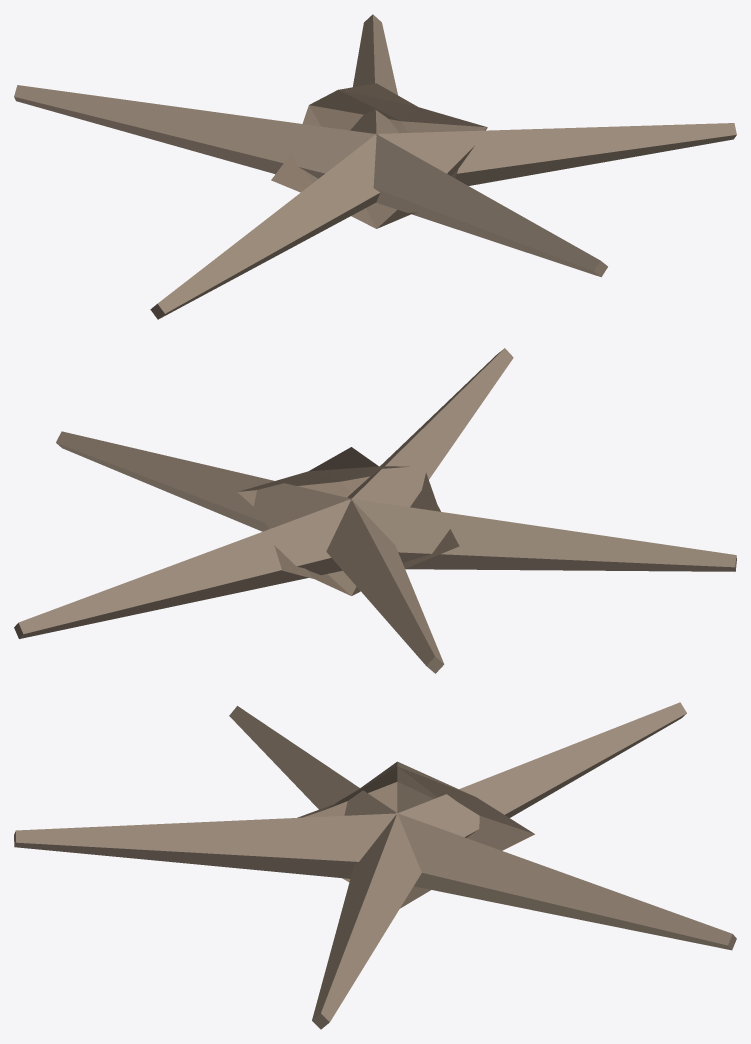
3 views of the same model, one above another, from view 1: azimuth 30°, elevation 25°; view 2: azimuth 150°, elevation 25°; view 3: azimuth 270°, elevation 25° (orthographic). The views are drawn at different scales.
Visible parts, largest first — view 1: lod0; view 2: lod0; view 3: lod0.
Part boxes in pixels (x1=…): lod0: x1=14, y1=14, x2=736, y2=319; lod0: x1=14, y1=348, x2=736, y2=673; lod0: x1=14, y1=702, x2=736, y2=1029.
Size of what is drawn, in the model's own units: 0.9522 by 0.2133 by 0.9394.
